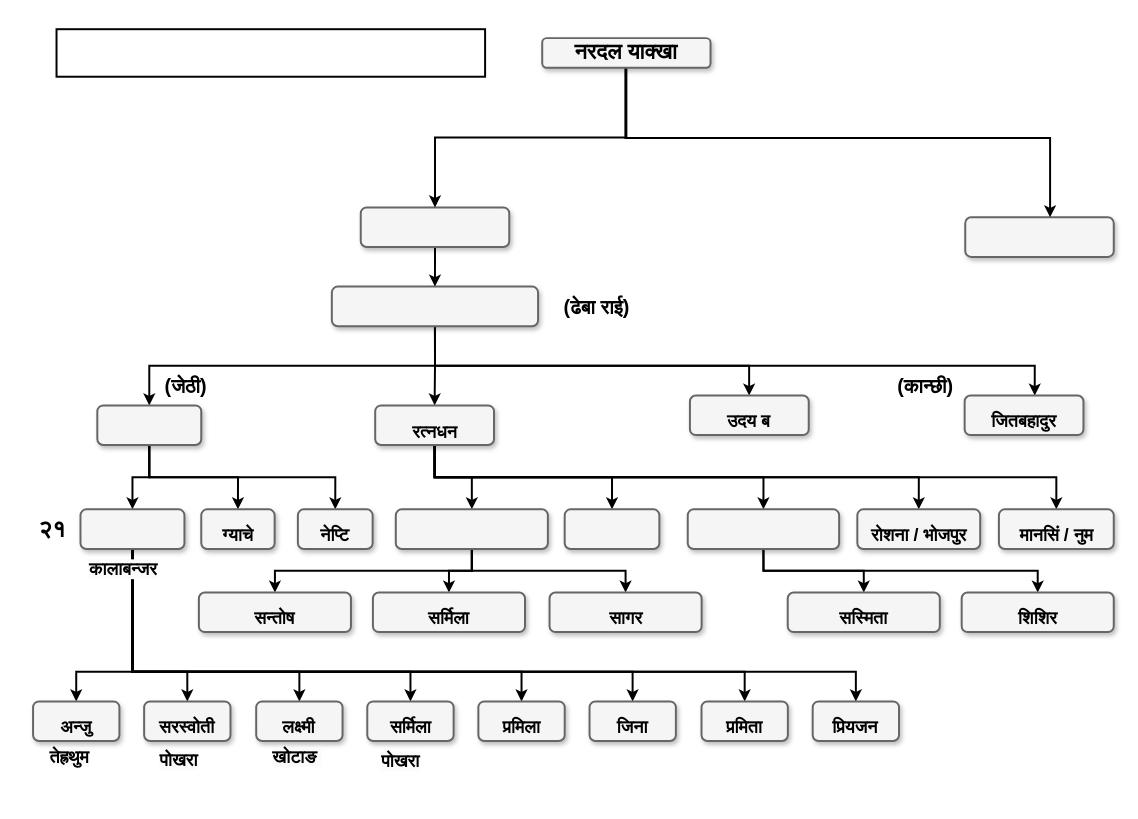
Some shapes in this 1138 by 819 pixel diagram are drawn without their labels. The shapes that lost their labels are listed below. From the top down, each one's centre as x and y in pixels, then its label:
point (270, 52): सिंभुवा-१ (चौतारा घर + तोरी घाम)
point (435, 228): प्रिथिजंग
point (1040, 238): श्रीधोज
point (435, 307): बिर्बल / हिङसिङ गाउ
point (150, 426): जगधन
point (133, 530): गंगा प्रसाद
point (472, 530): चन्द्रबहादुर / स्वाचि
point (612, 530): देवकुमारी
point (764, 530): शेरबहादुर / स्याबुन
